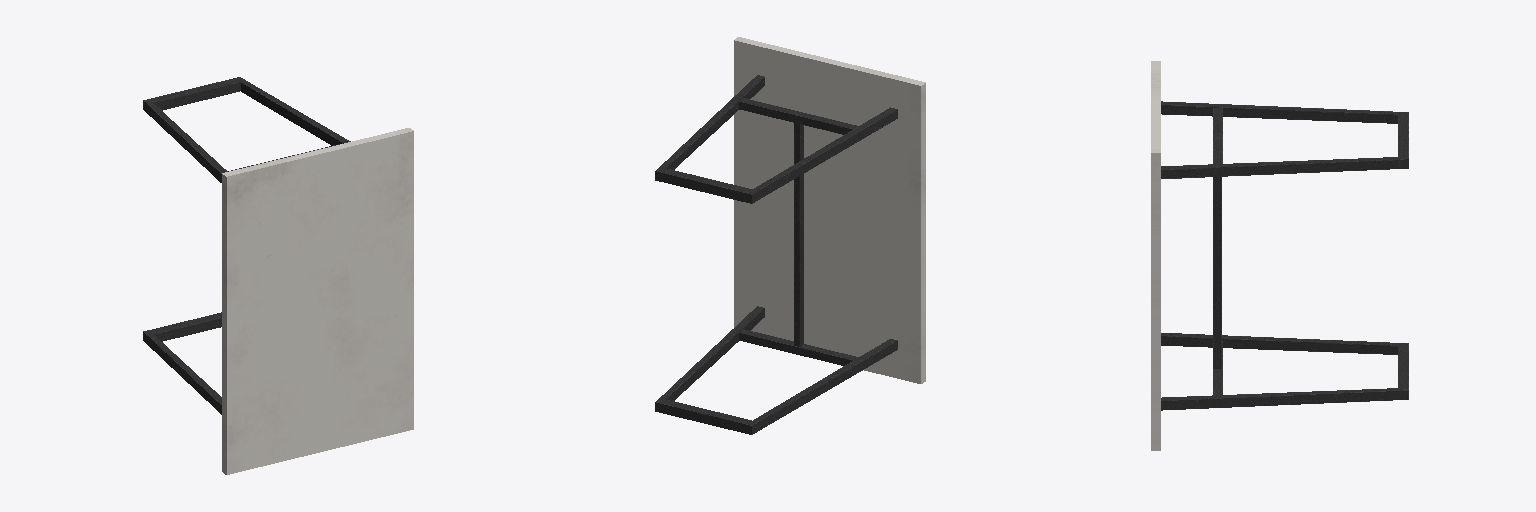
3 views of the same model, side by side, from view 1: azimuth 30°, elevation 25°; view 2: azimuth 150°, elevation 25°; view 3: azimuth 270°, elevation 25° (orthographic).
Visible parts, largest first — view 1: FoodCourtTable1; view 2: FoodCourtTable1; view 3: FoodCourtTable1.
Part boxes in pixels (bbox=[...]): FoodCourtTable1: bbox=[143, 77, 413, 474]; FoodCourtTable1: bbox=[655, 37, 925, 434]; FoodCourtTable1: bbox=[1151, 61, 1408, 450].
Bounding box in the file's own units: 0.6103 × 0.9268 × 0.7255.
1 materials, 1 textured.